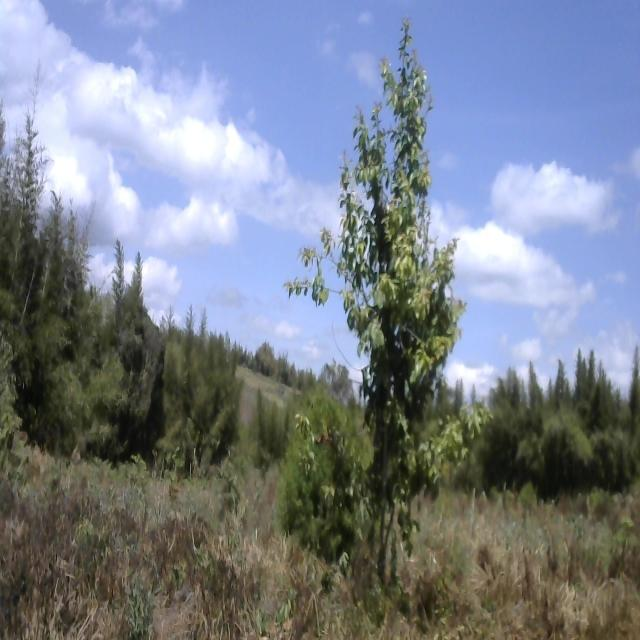Olea welwitchii: (283, 15, 491, 575)
